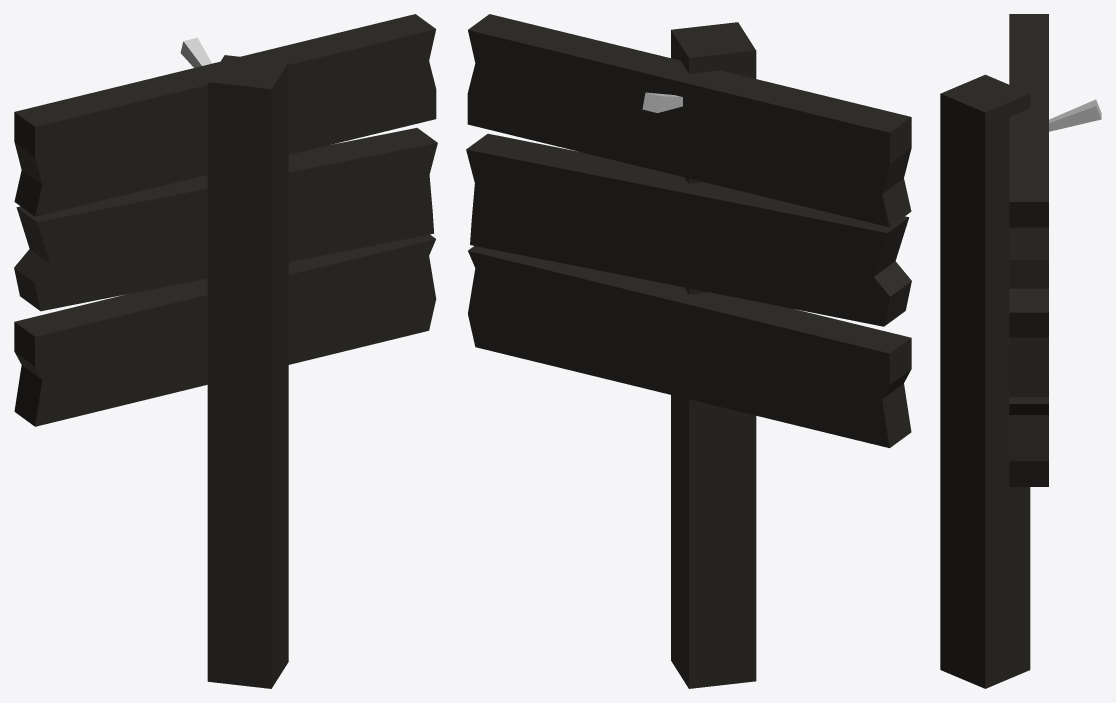
File: board.obj
The picture shows the model from 3 angles, left to right: view 1: azimuth 30°, elevation 25°; view 2: azimuth 150°, elevation 25°; view 3: azimuth 270°, elevation 25°; orthographic projection. The views are drawn at different scales.
Visible parts, largest first — view 1: cuboid; view 2: cuboid; view 3: cuboid.
Boxes of the visible parts, left/top/right/bottom form: cuboid: left=14, top=14, right=437, bottom=688; cuboid: left=466, top=14, right=911, bottom=688; cuboid: left=940, top=14, right=1101, bottom=688.
Bounding box in the file's own units: 0.8796 × 1.25 × 0.3167.
Materials: 2 (1 with a texture image).
